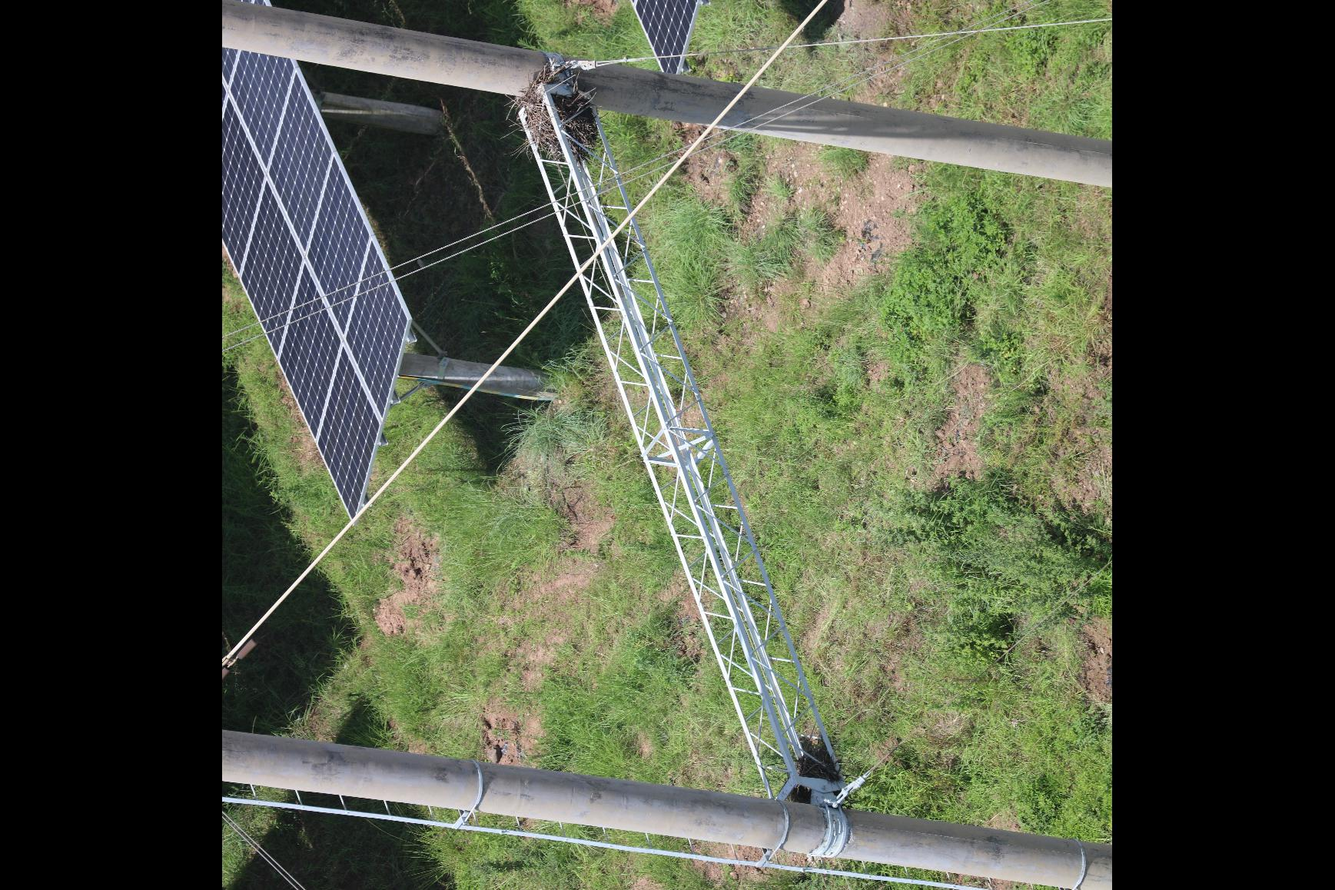nest: (513, 67, 602, 166), (786, 732, 842, 803)
